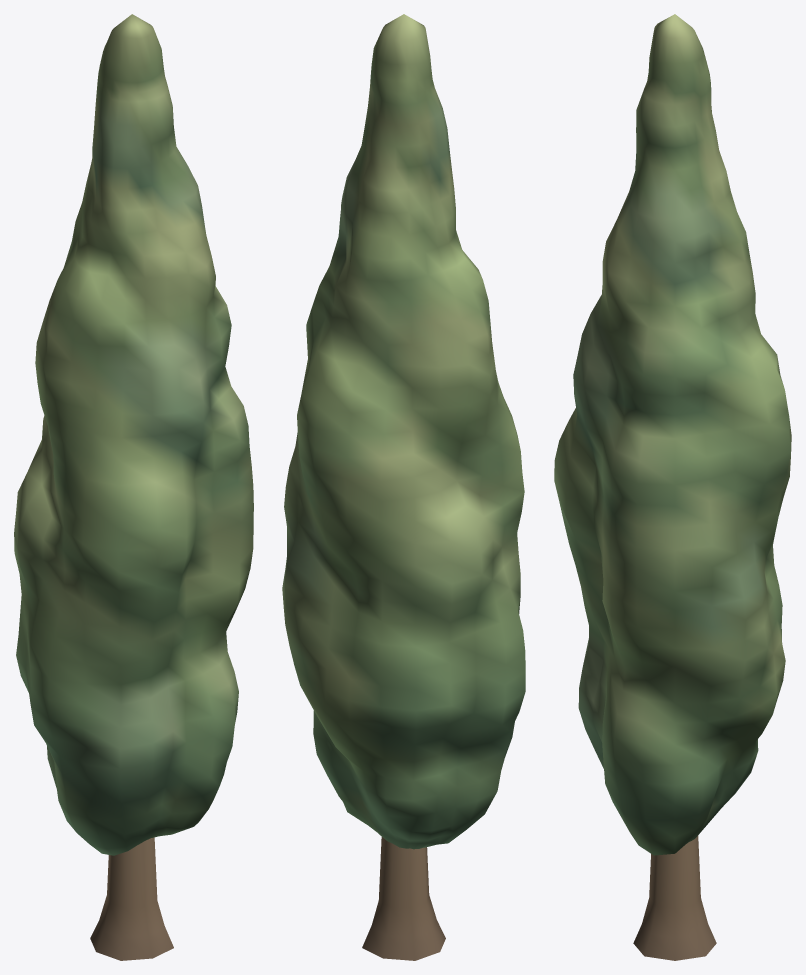
File: poplar_b.glb
3 renders of one model, left to right at view 1: azimuth 30°, elevation 25°; view 2: azimuth 150°, elevation 25°; view 3: azimuth 270°, elevation 25°, orthographic.
Visible parts, largest first — view 1: poplar_b; view 2: poplar_b; view 3: poplar_b.
Boxes of the visible parts, <box> form: poplar_b: <box>14,14,253,960</box>; poplar_b: <box>282,14,525,960</box>; poplar_b: <box>554,14,791,960</box>.
Bounding box in the file's own units: 8.56 × 35.64 × 8.25.
